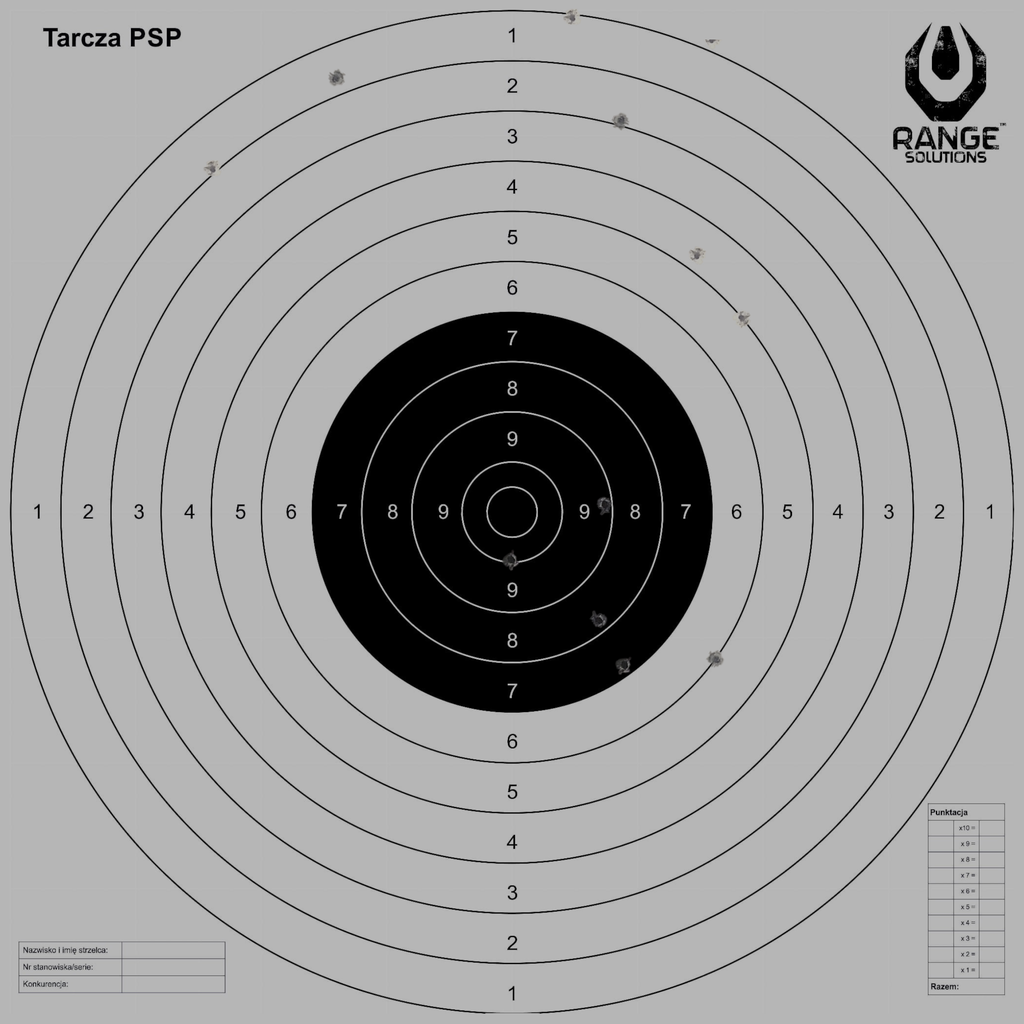0 punktow: (703, 30, 721, 49)
1 punkt: (327, 69, 345, 88)
10 punktow: (502, 551, 521, 569)
2 punkty: (203, 160, 222, 178)
3 punkty: (612, 111, 630, 130)
4 punkty: (688, 246, 706, 265)
5 punktow: (733, 309, 751, 327)
6 punktow: (707, 650, 725, 669)
7 punktow: (615, 656, 634, 675)
8 punktow: (590, 611, 608, 629)
9 punktow: (595, 496, 614, 514)
